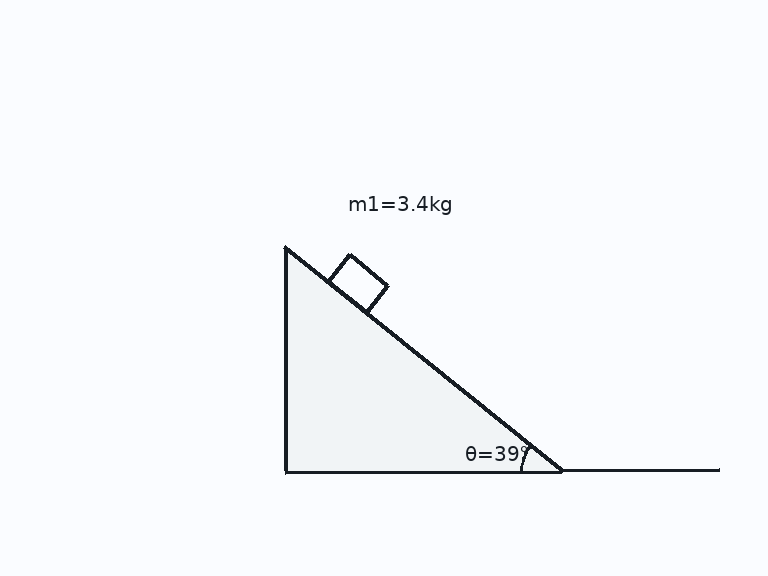block: (326, 252, 390, 315)
ramp: (283, 246, 563, 473)
